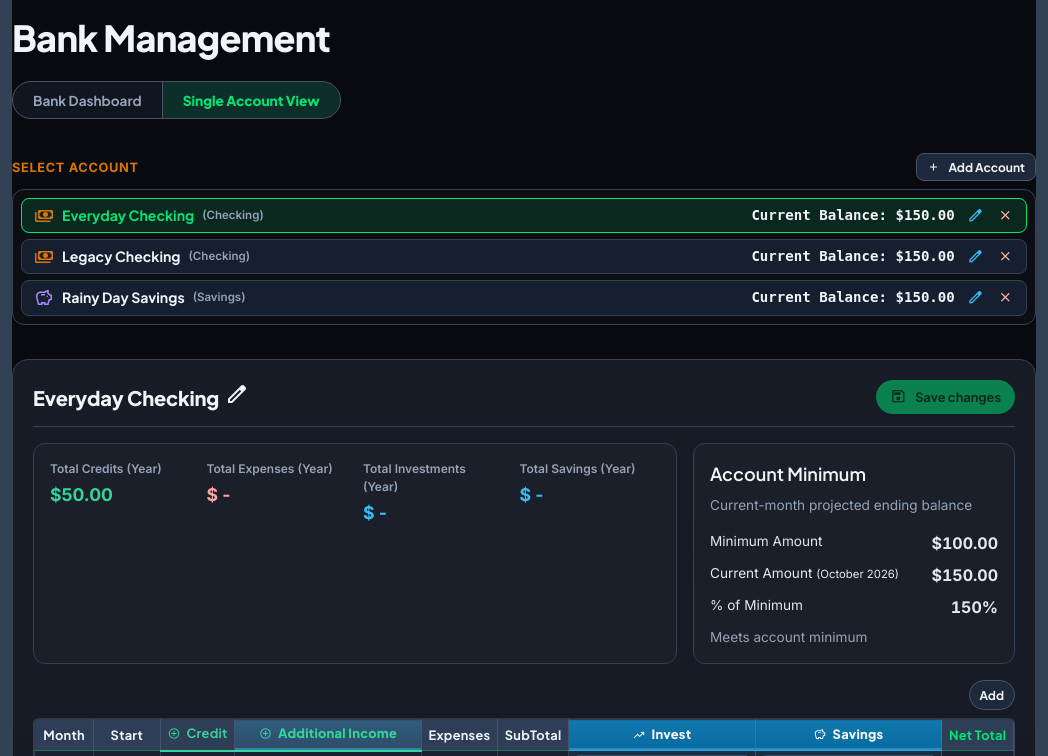
Test: Account minimum behavior › switches the complete card with selection and hides it for an unconfigured account
Expected: the element "Account Minimum" shows "150%", 951,597 -> 998,617
Click the text "Rainy Day Savings" at (123, 298), box 62,287 -> 185,308
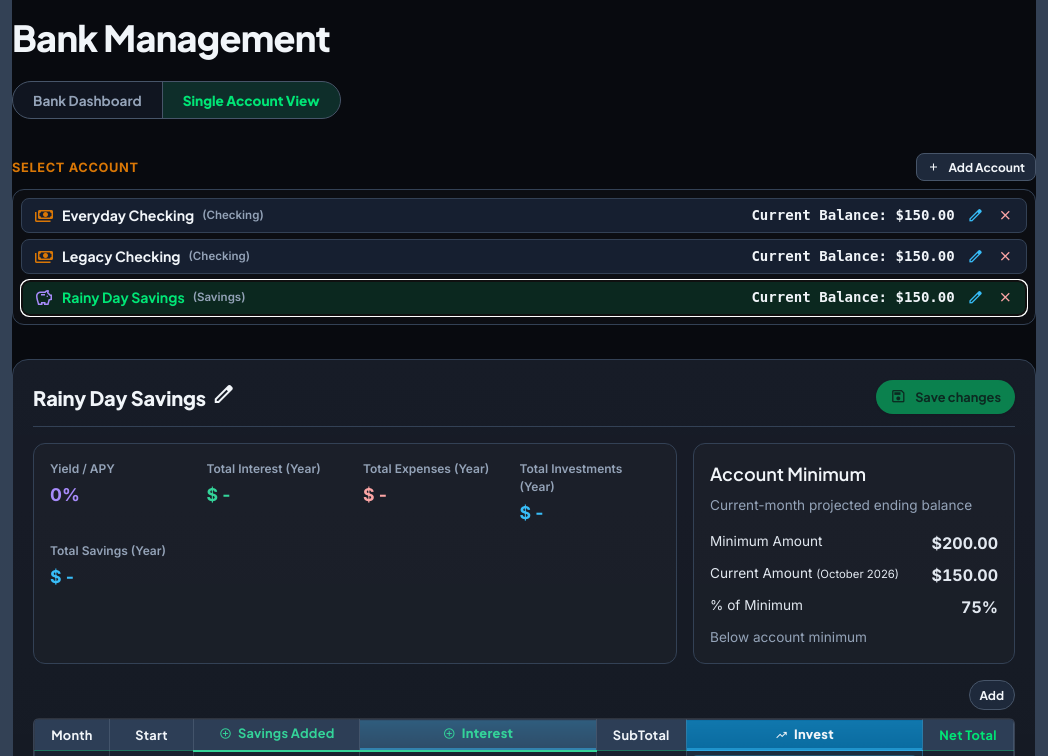
Result: the element "Account Minimum" shows "$200.00" at 932,533 -> 998,553
Result: the element "Account Minimum" shows "75%" at 961,597 -> 998,617
Result: the element "Account Minimum" no longer shows "$100.00" at 693,442 -> 1015,664
Click the text "Legacy Checking" at (121, 257), box 62,246 -> 180,267
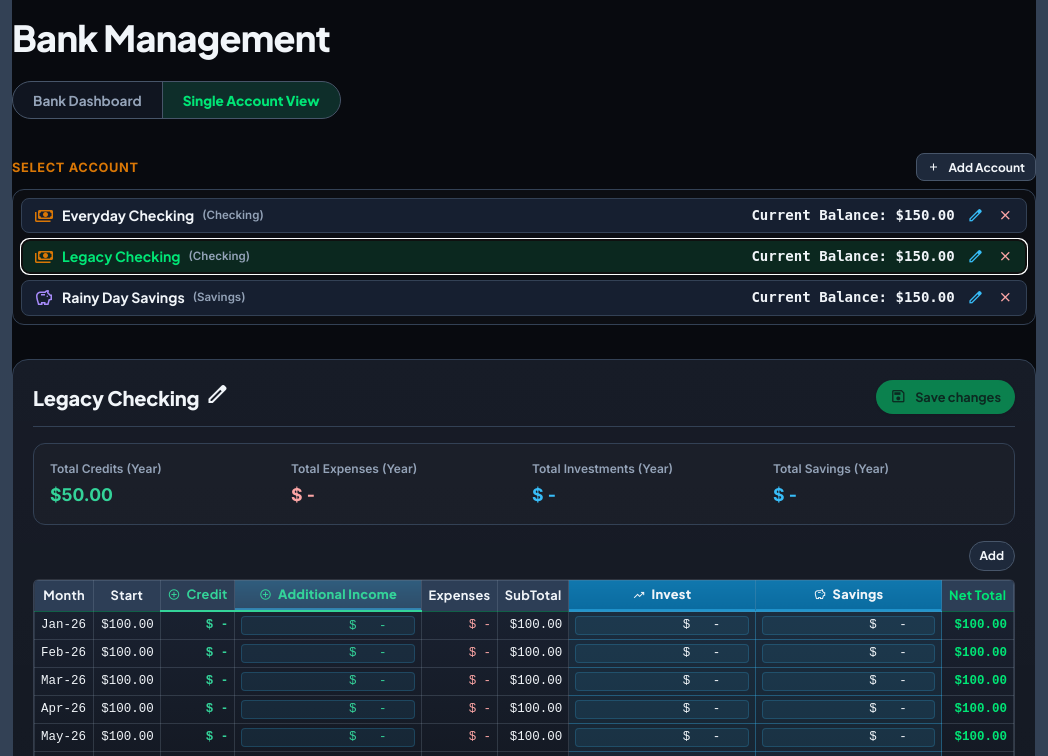
Result: the heading "Account Minimum" is gone
